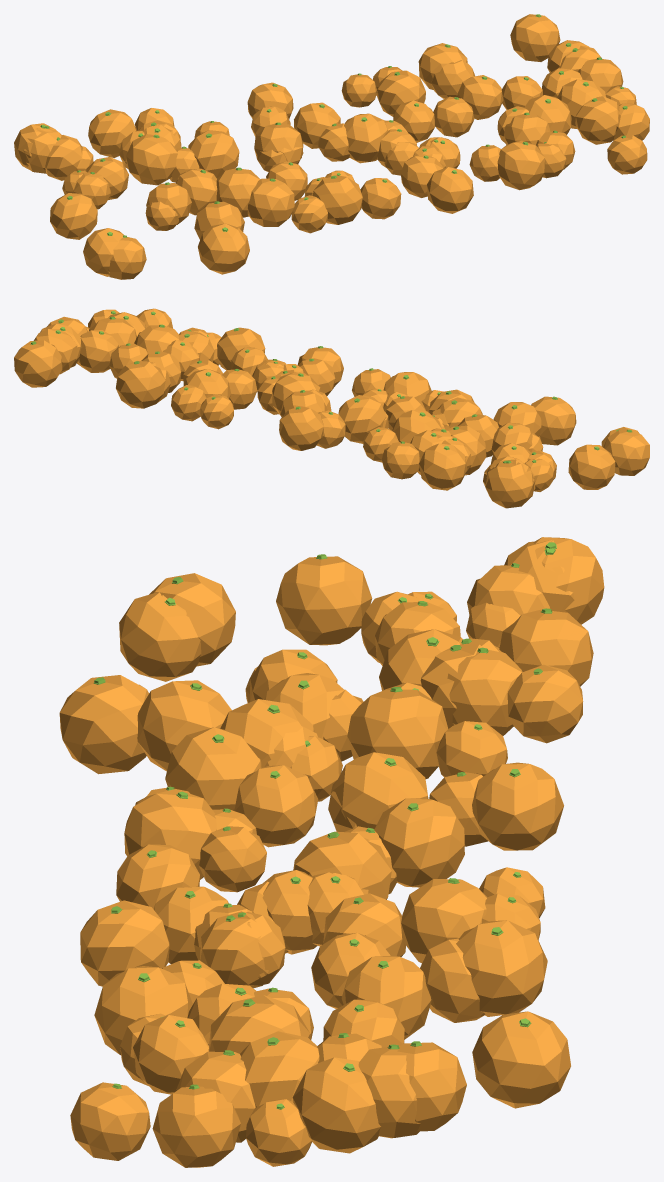
The model's file is orange.fbx.
3 renders of one model, top to bottom at view 1: azimuth 30°, elevation 25°; view 2: azimuth 150°, elevation 25°; view 3: azimuth 270°, elevation 25°, orthographic. The views are drawn at different scales.
Visible parts, largest first — view 1: Icosphere.059; view 2: Icosphere.059; view 3: Icosphere.059.
Boxes of the visible parts, x1,y1,x2,y2 form: Icosphere.059: (14, 14, 649, 279); Icosphere.059: (14, 308, 649, 508); Icosphere.059: (59, 537, 604, 1167).
Bounding box in the file's own units: 1292 × 173 × 541.
